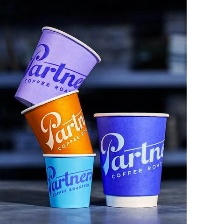paper_cup: (9, 21, 104, 114), (88, 107, 173, 210), (17, 85, 98, 157), (39, 149, 99, 211)
